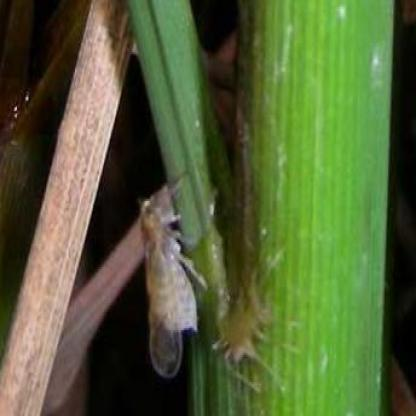brown-planthopper: (138, 195, 202, 380)
